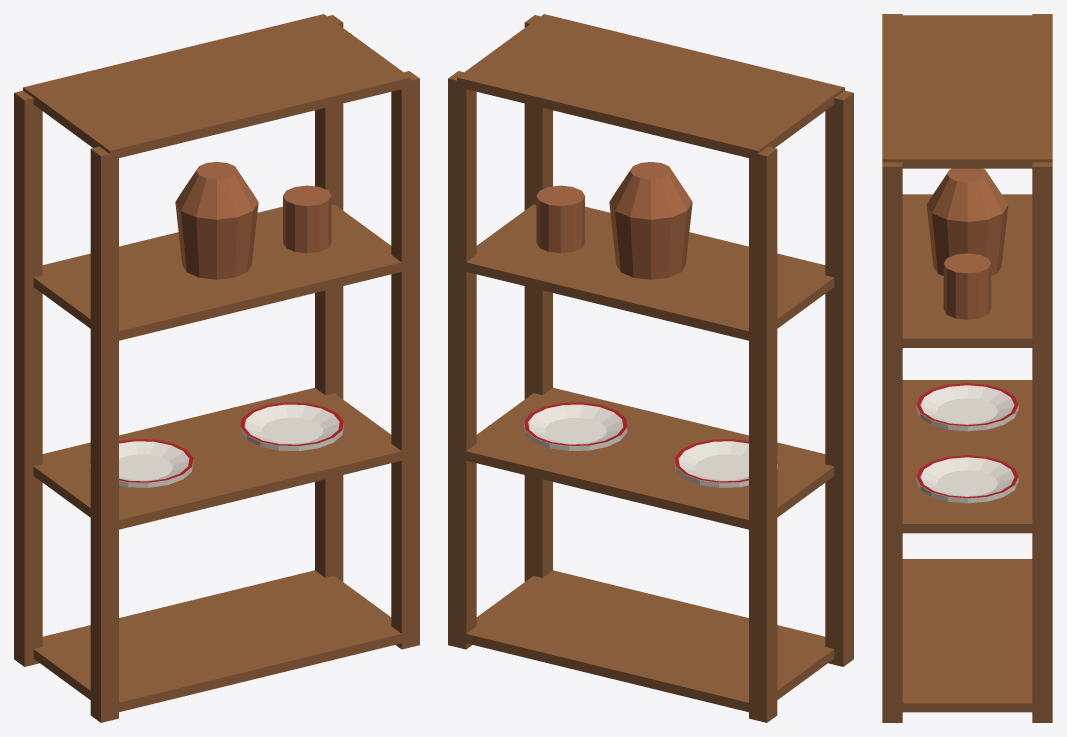
Rendered from dish_shelf.obj.
The picture shows the model from 3 angles, left to right: view 1: azimuth 30°, elevation 25°; view 2: azimuth 150°, elevation 25°; view 3: azimuth 270°, elevation 25°; orthographic projection.
Visible parts, largest first — view 1: dish_shelf; view 2: dish_shelf; view 3: dish_shelf.
Boxes of the visible parts, box(x1,y1,x2,y2) form: dish_shelf: box(14, 14, 419, 722); dish_shelf: box(448, 14, 853, 722); dish_shelf: box(882, 14, 1052, 722).
Bounding box in the file's own units: 1.06 × 1.81 × 0.5.
